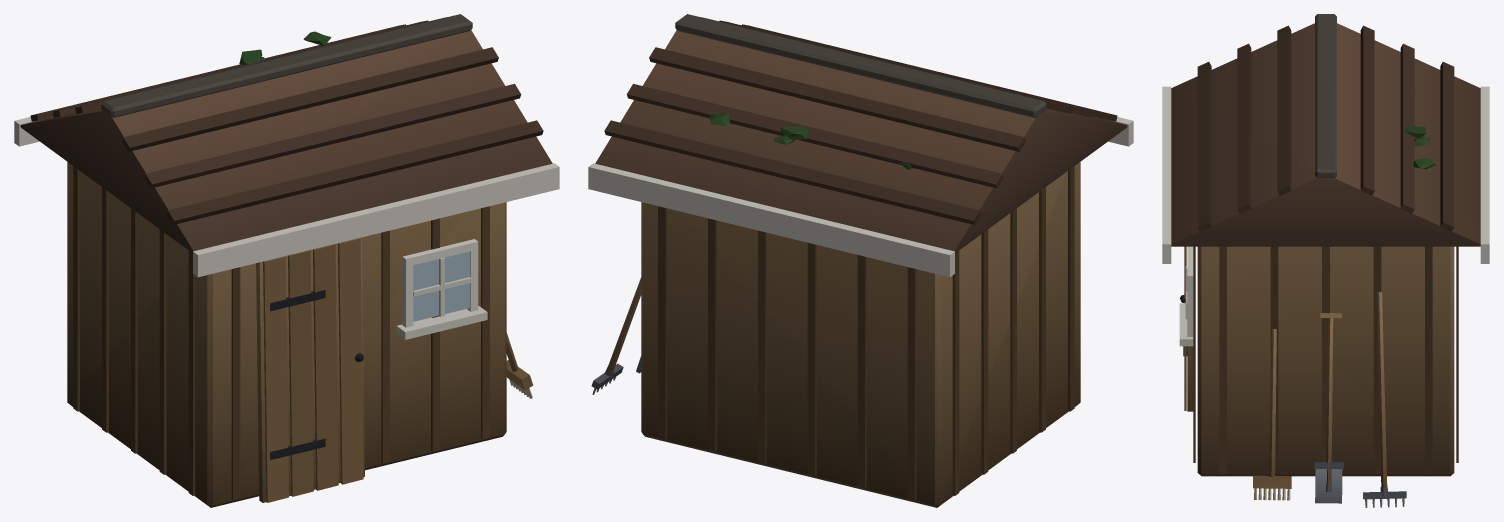
Rendered from garden-shed.glb.
3 views of the same model, side by side, from view 1: azimuth 30°, elevation 25°; view 2: azimuth 150°, elevation 25°; view 3: azimuth 270°, elevation 25° (orthographic). The views are drawn at different scales.
Visible parts, largest first — view 1: garden_shed; view 2: garden_shed; view 3: garden_shed.
Boxes of the visible parts, <box> form: garden_shed: <box>14,14,559,507</box>; garden_shed: <box>588,14,1133,507</box>; garden_shed: <box>1162,14,1489,507</box>.
Size of the model in its own units: 3.28 by 2.76 by 2.55.
